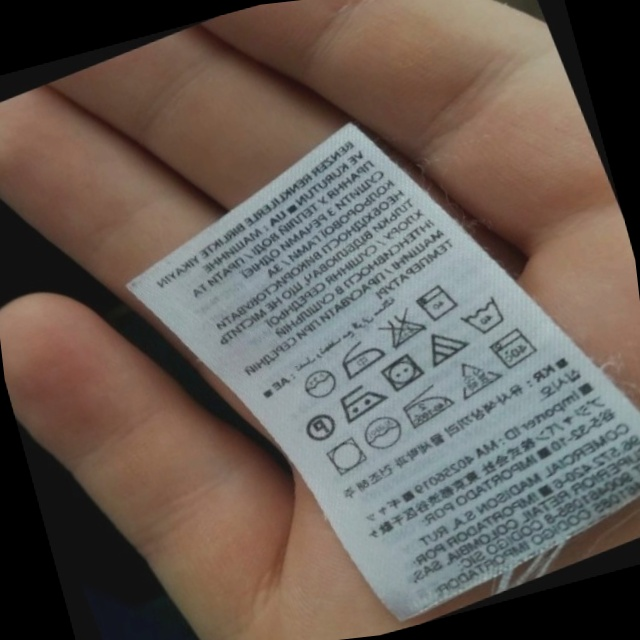40C: (453, 292, 511, 344), (484, 322, 539, 376), (411, 278, 460, 328)
dry_clean: (355, 408, 408, 457), (294, 361, 343, 408)
dry_clean_any_solvent_except_trichloroethylene: (298, 407, 341, 447)
iron: (331, 333, 390, 382)
iron_medium: (394, 380, 459, 433), (333, 377, 389, 425)
non_chlorine_bleach: (446, 352, 503, 405), (417, 322, 471, 371)
tumble_dry_medium: (372, 346, 430, 397)
tumble_dry_normal: (319, 432, 374, 484)
